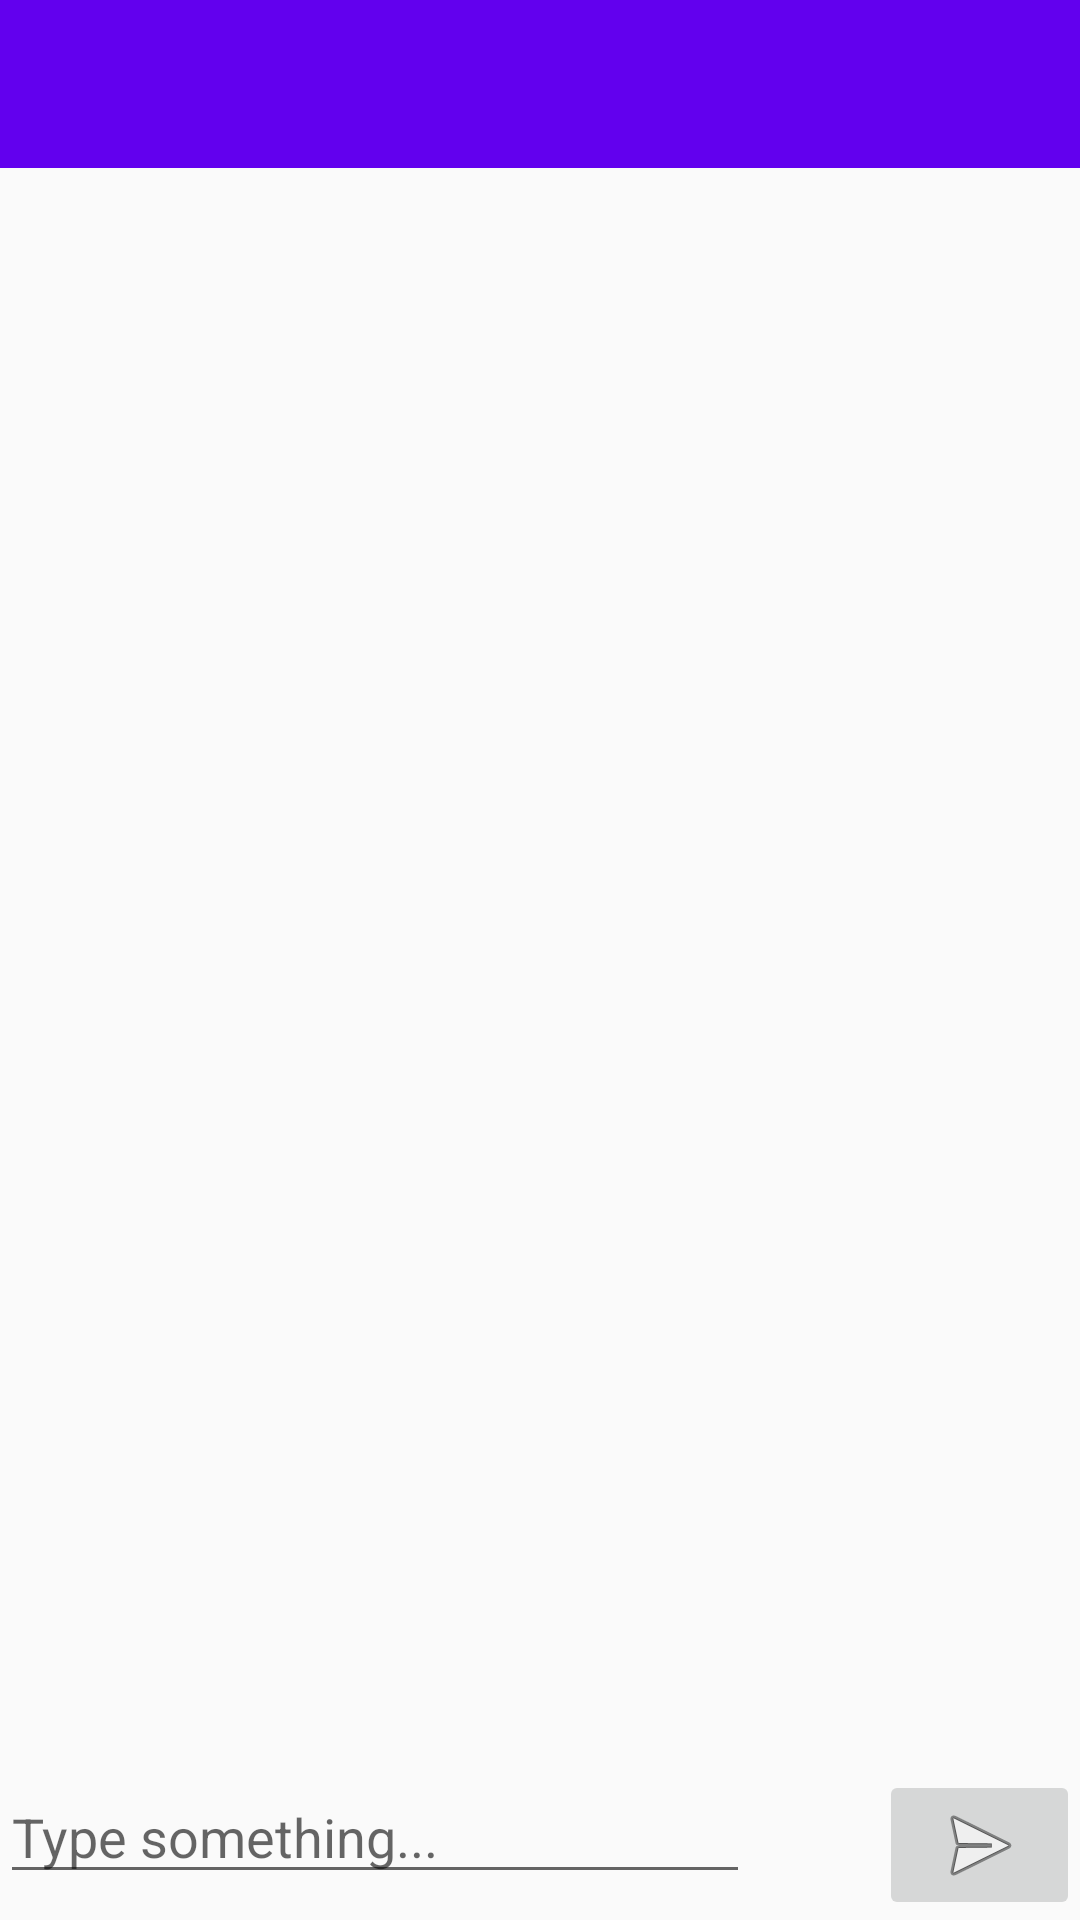

Where to tap for icons on this 1080 × 1920 app screen, as (x,y):
send: (979,1845)
